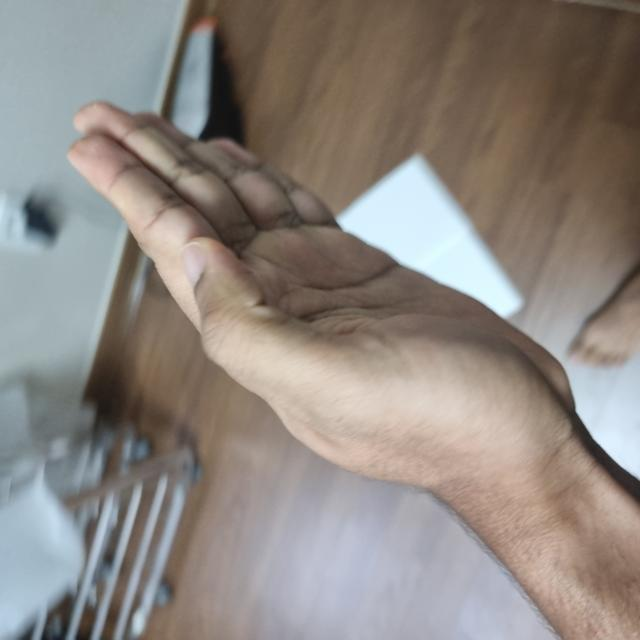Paper: (142, 69, 532, 575)
